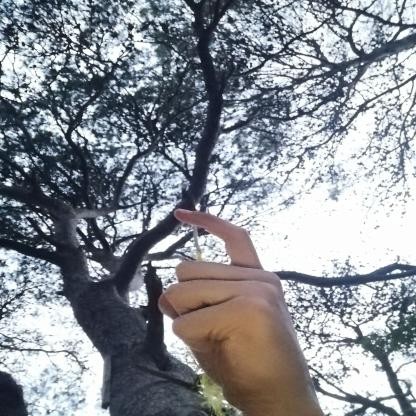RAA: (145, 198, 322, 411)
